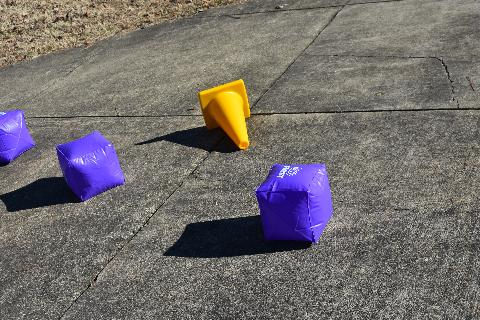cone: (197, 78, 251, 150)
cube: (255, 164, 334, 244), (55, 130, 126, 202), (0, 109, 36, 163)
